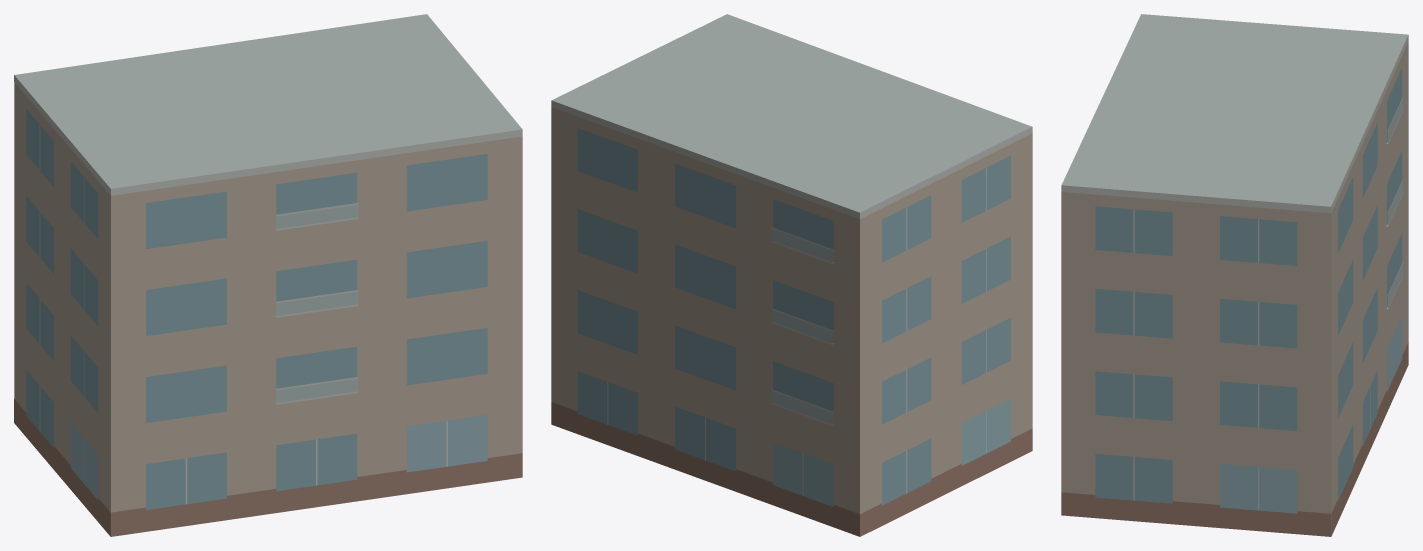
Rendered from survey-upis-32962396.glb.
The picture shows the model from 3 angles, left to right: view 1: azimuth 30°, elevation 25°; view 2: azimuth 150°, elevation 25°; view 3: azimuth 270°, elevation 25°; orthographic projection. The views are drawn at different scales.
Parts seen in each view (by area): view 1: survey-upis-32962396.tmp; view 2: survey-upis-32962396.tmp; view 3: survey-upis-32962396.tmp.
Part boxes in pixels (x1,y1,x2,y2): survey-upis-32962396.tmp: (14,14,522,536); survey-upis-32962396.tmp: (551,14,1032,536); survey-upis-32962396.tmp: (1061,14,1408,536).
Size of the model in its own units: 15.29 by 12.2 by 11.64.
